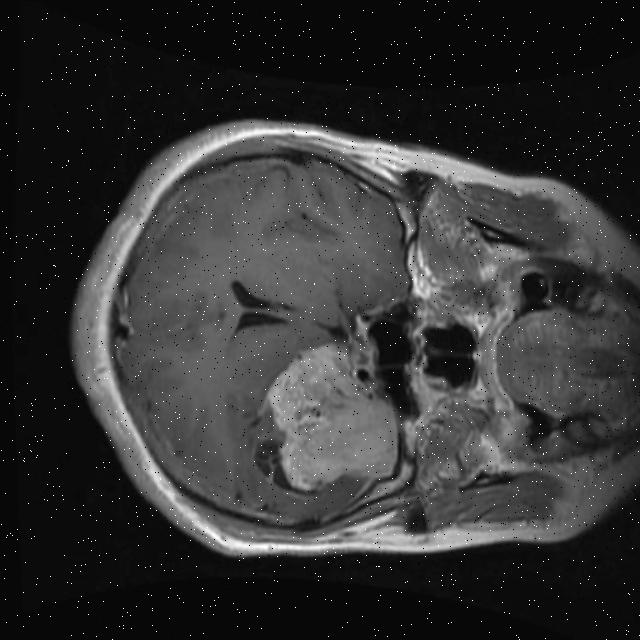Meningioma: (260, 337, 405, 499)
